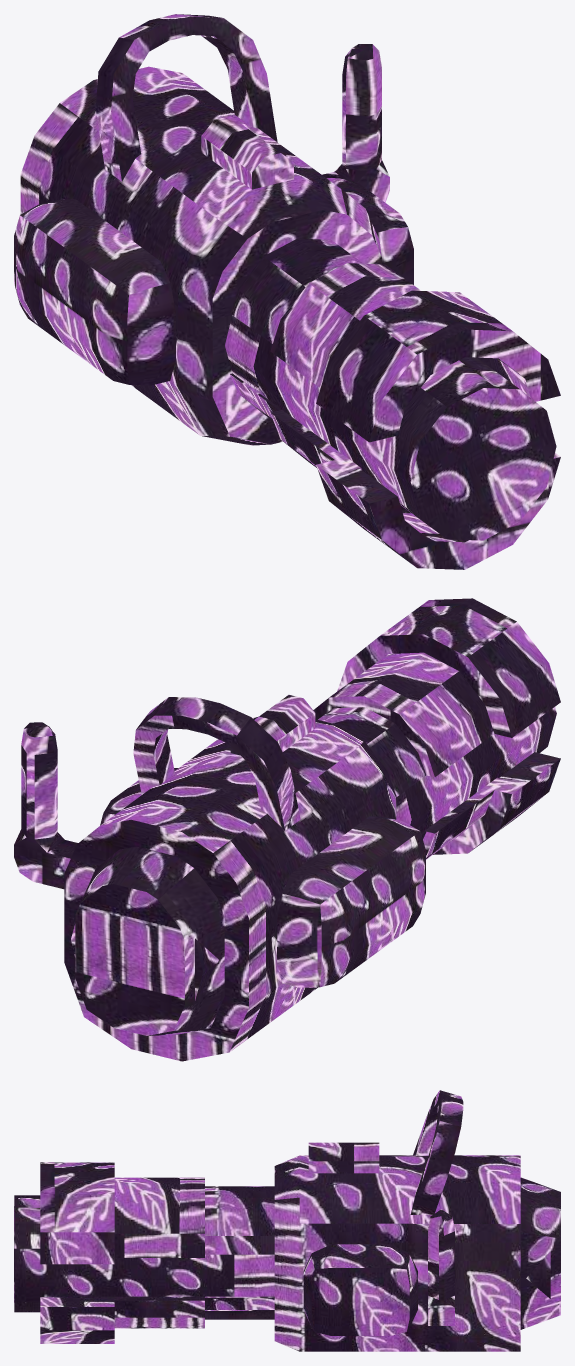
The model's file is Grenade Launcher batik cb txt 5.fbx.
3 renders of one model, top to bottom at view 1: azimuth 30°, elevation 25°; view 2: azimuth 150°, elevation 25°; view 3: azimuth 270°, elevation 25°, orthographic. The views are drawn at different scales.
Parts seen in each view (by area): view 1: Grenade_launcher; view 2: Grenade_launcher; view 3: Grenade_launcher.
Boxes of the visible parts, left/top/right/bottom form: Grenade_launcher: left=14, top=14, right=560, bottom=569; Grenade_launcher: left=14, top=598, right=560, bottom=1061; Grenade_launcher: left=14, top=1090, right=560, bottom=1351.
Size of the model in its own units: 23.12 by 21.41 by 44.08.
